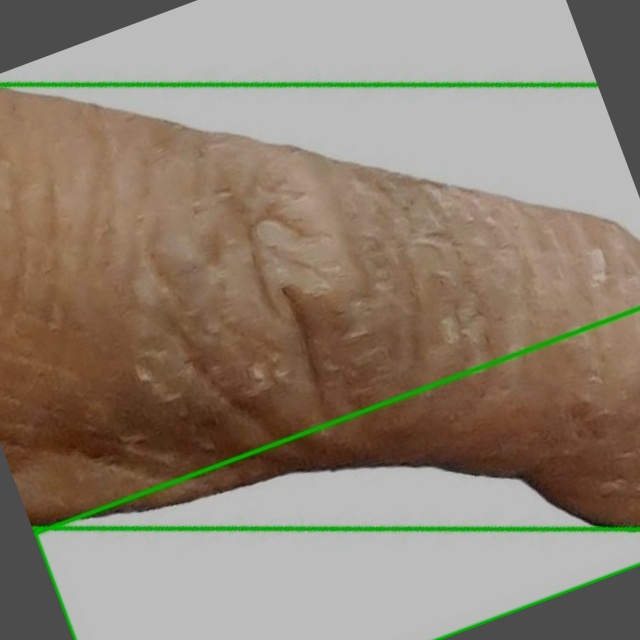Eczema: (0, 117, 639, 522), (34, 308, 639, 639)
